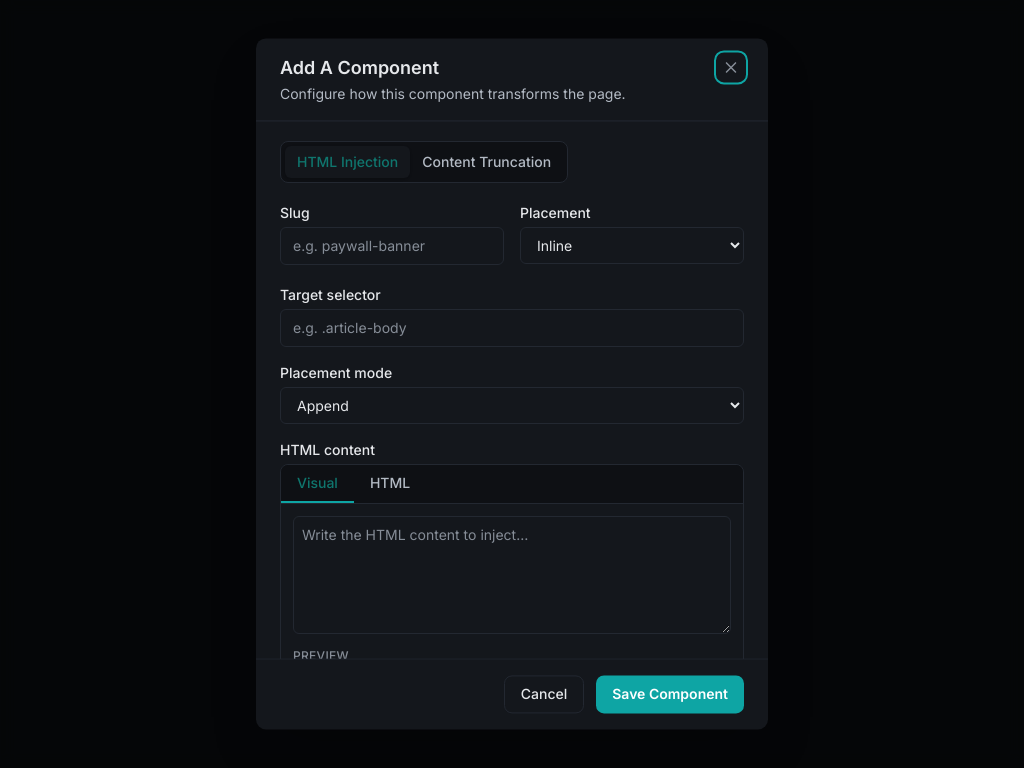
Test case: ComponentConfigModal › switches the active form when selecting the Content Truncation tab
The width and height of the screenshot is (1024, 768).
What coordinates should you click on to do the following:
click the tab "Content Truncation"
I would click on:
 (487, 162)
Its box is top-left (410, 146), bottom-right (563, 178).
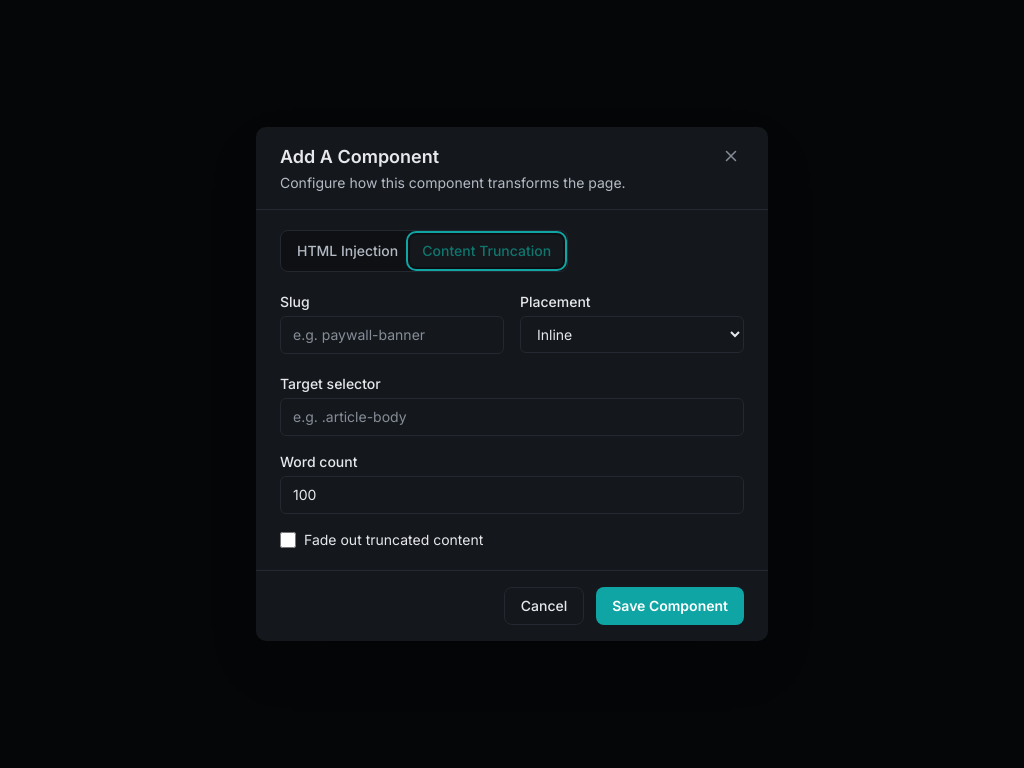
Expected: the tab "Content Truncation" is shown, top-left (410, 235), bottom-right (563, 267)
Result: the number field labelled "Word count" is shown at top-left (280, 476), bottom-right (744, 514)
